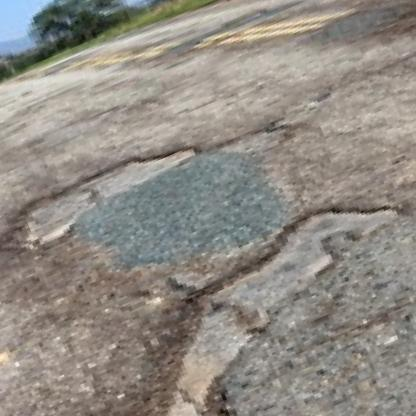pothole: (45, 176, 416, 416), (0, 130, 211, 263), (211, 113, 297, 170)
